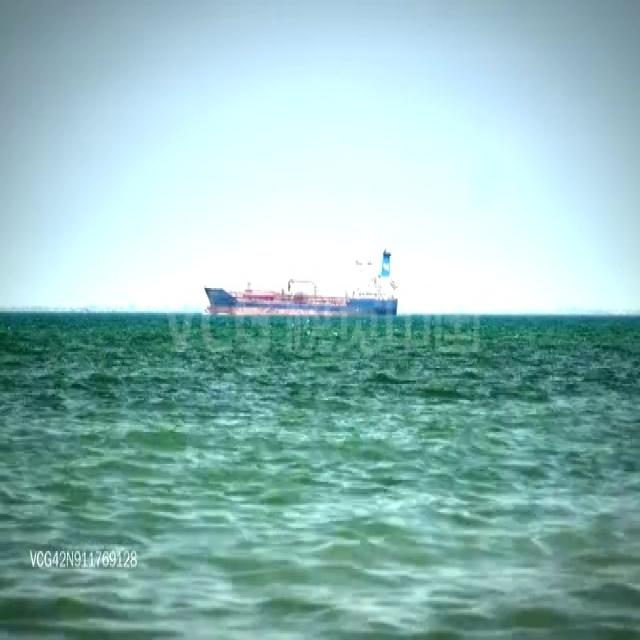cargoship: (198, 245, 400, 316)
